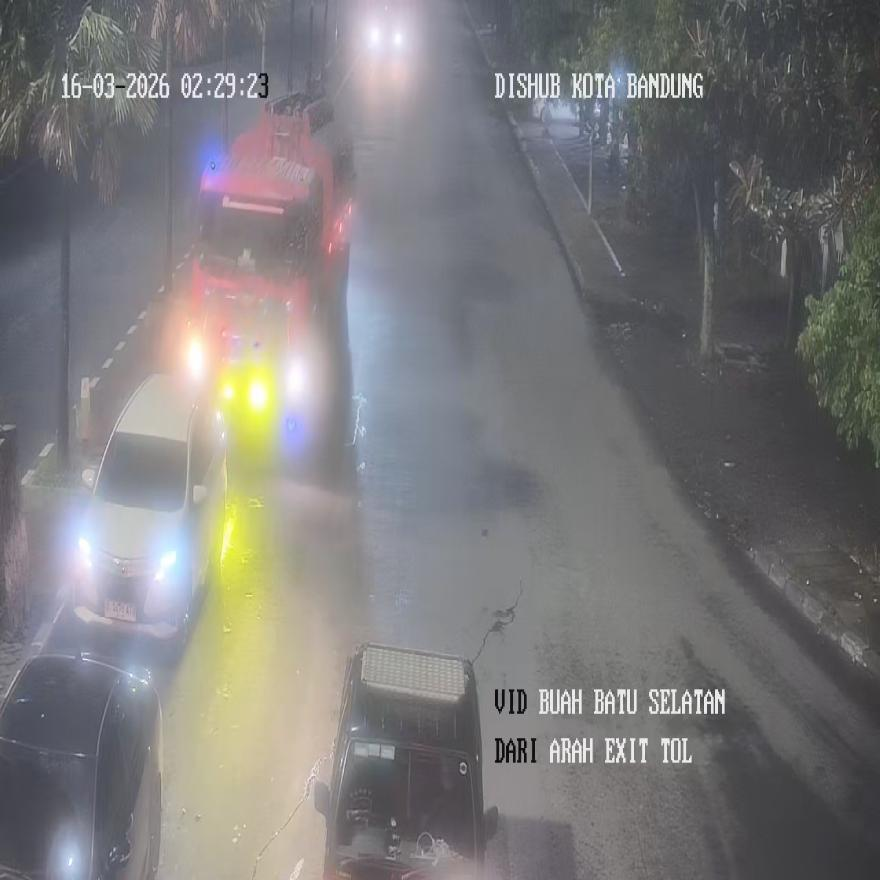Mobil: (314, 642, 499, 877), (70, 374, 228, 640), (0, 650, 163, 878)
Truk berat: (181, 88, 355, 453)
